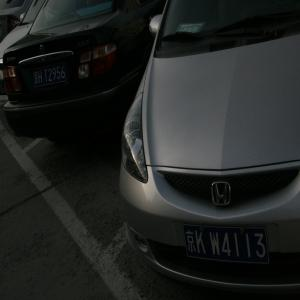Vehicle-registration-plate: (184, 226, 269, 264)
